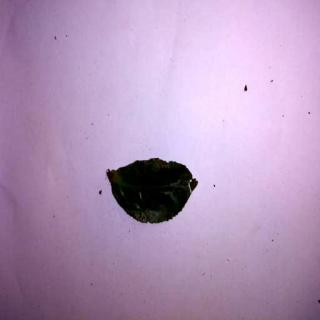Anthracnose: (108, 157, 202, 227)
